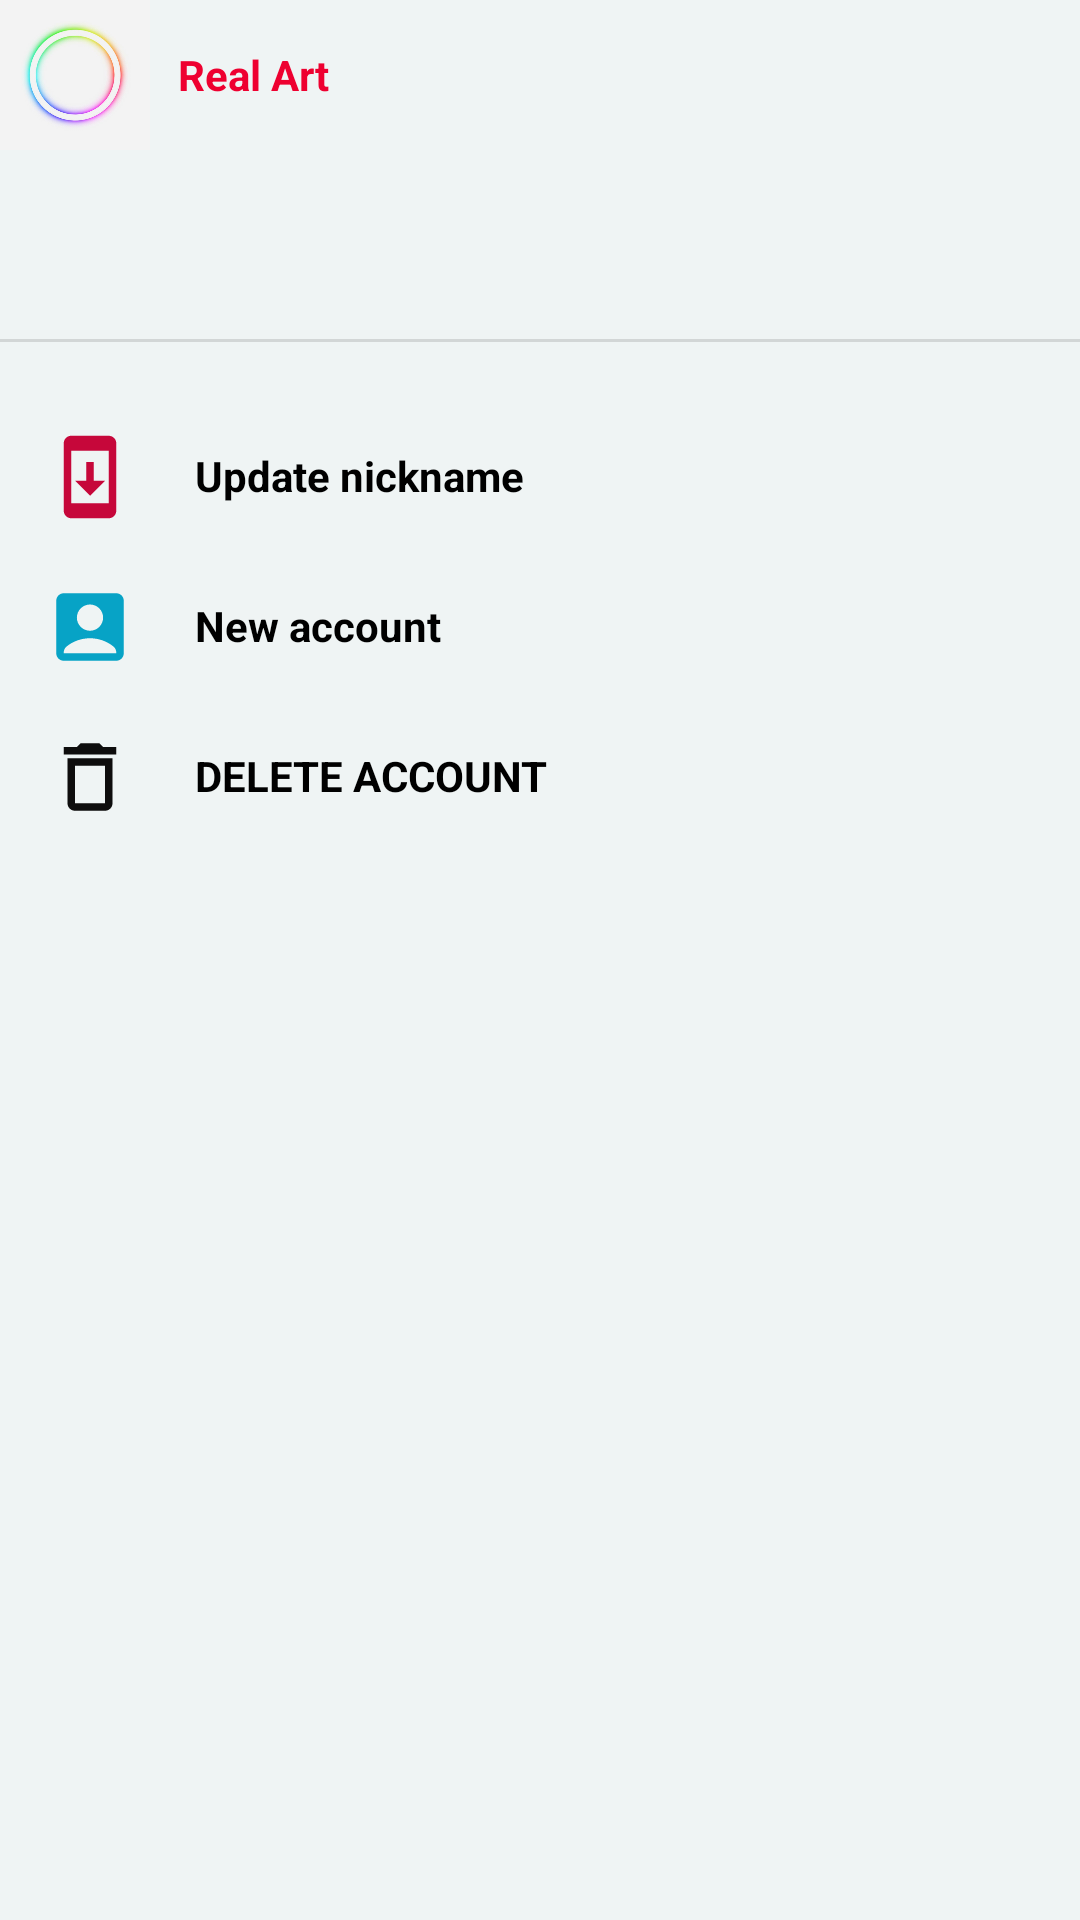

Where icons sit on this 1080px×1920px app screen, as [x1=x1, y1=y1, x2=x2, y2=y2]:
account box: [x1=56, y1=593, x2=124, y2=661]
updateaccount: [x1=63, y1=435, x2=117, y2=519]
